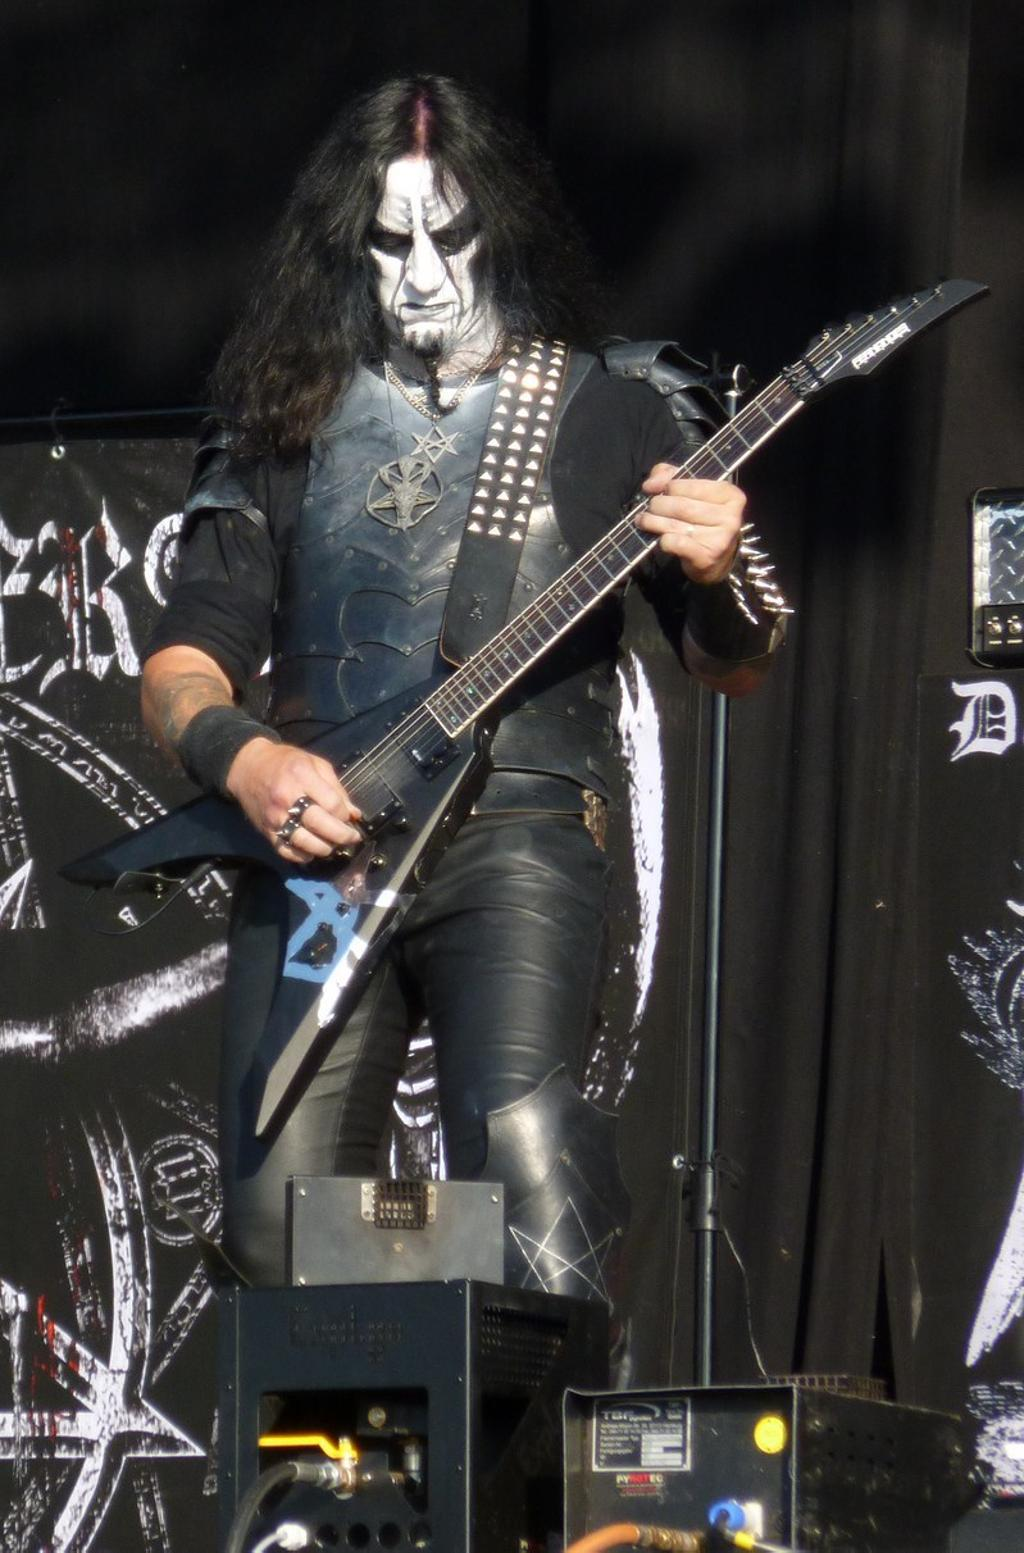face: (368, 165, 489, 347)
